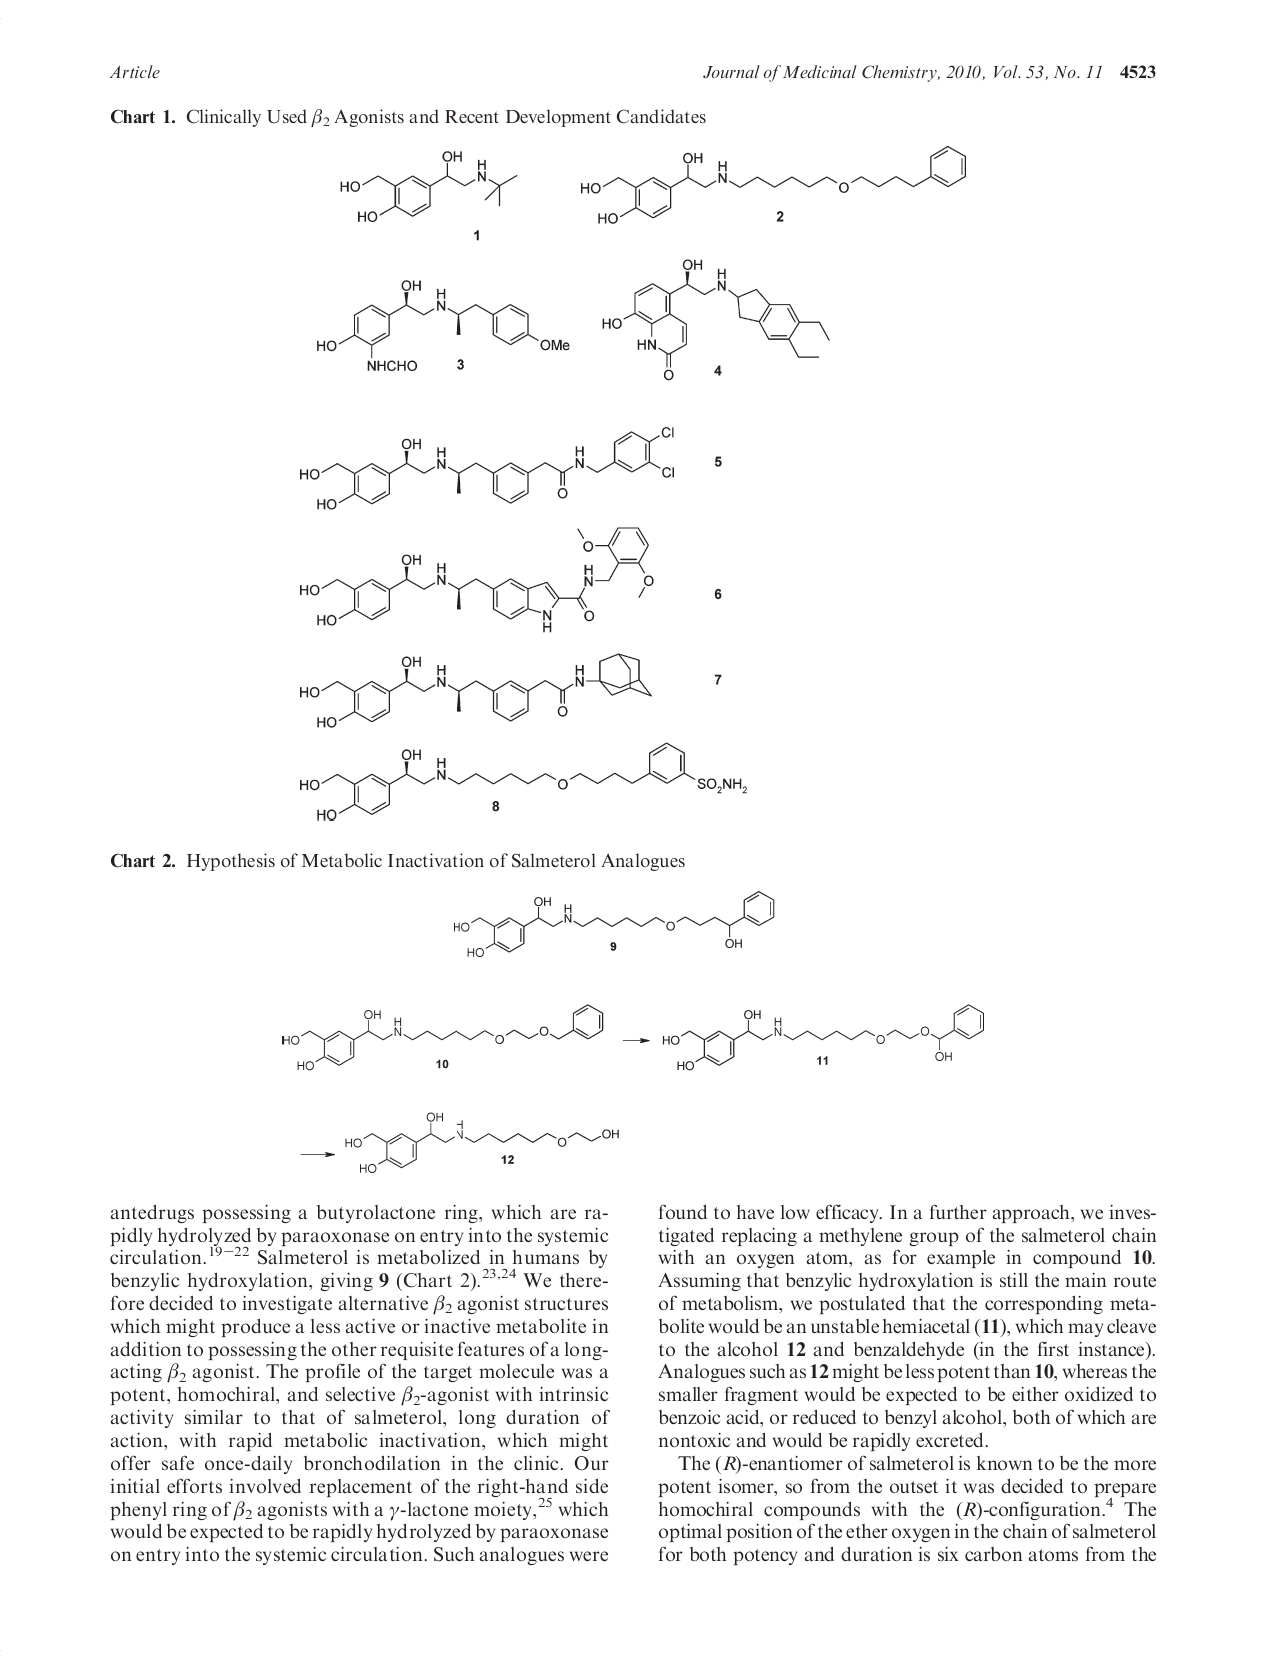exist_molecular: (293, 520, 656, 633), (294, 739, 749, 826), (578, 144, 968, 226), (298, 430, 685, 509), (598, 255, 832, 382), (297, 653, 656, 729), (453, 886, 777, 967), (315, 277, 577, 376), (281, 1001, 606, 1075), (657, 1001, 987, 1072), (340, 1109, 621, 1176), (336, 149, 524, 227)
